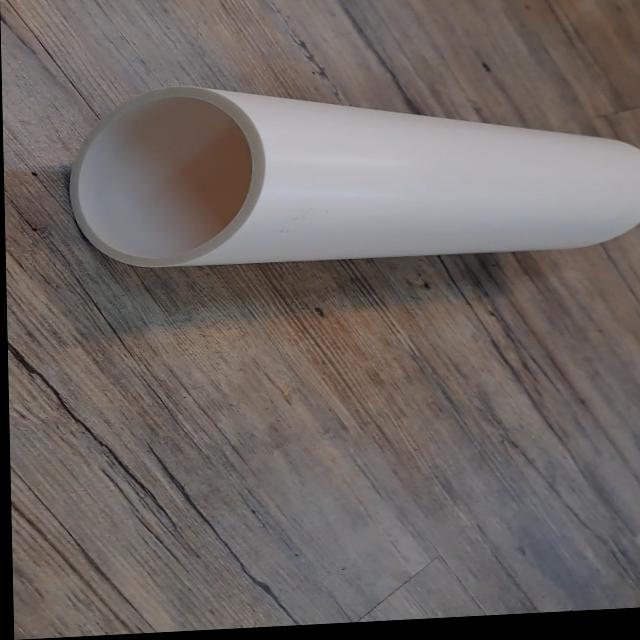CORAL: (52, 55, 640, 290)
